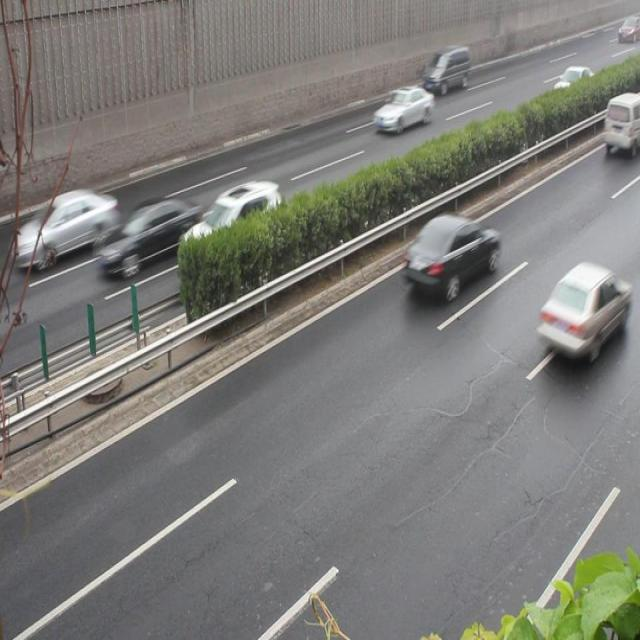car: (179, 178, 282, 268), (538, 259, 628, 356), (15, 188, 118, 268), (404, 214, 500, 297), (98, 197, 202, 272), (372, 88, 432, 135)
truck: (423, 45, 470, 96)
